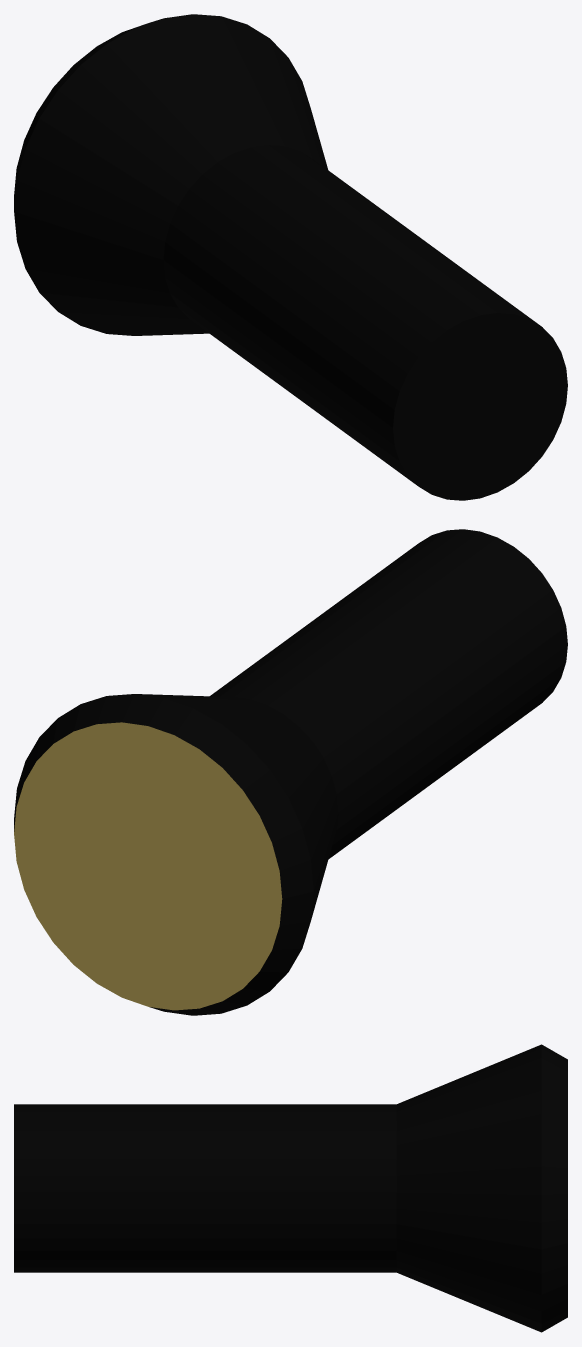
The model's file is Flash_Light.glb.
The picture shows the model from 3 angles, top to bottom: view 1: azimuth 30°, elevation 25°; view 2: azimuth 150°, elevation 25°; view 3: azimuth 270°, elevation 25°; orthographic projection. The views are drawn at different scales.
Visible parts, largest first — view 1: Cylinder; view 2: Cylinder; view 3: Cylinder.
Boxes of the visible parts, left/top/right/bottom form: Cylinder: left=14, top=14, right=567, bottom=500; Cylinder: left=14, top=529, right=567, bottom=1015; Cylinder: left=14, top=1044, right=567, bottom=1332.
Size of the model in its own units: 0.9719 by 0.9719 by 1.87.
